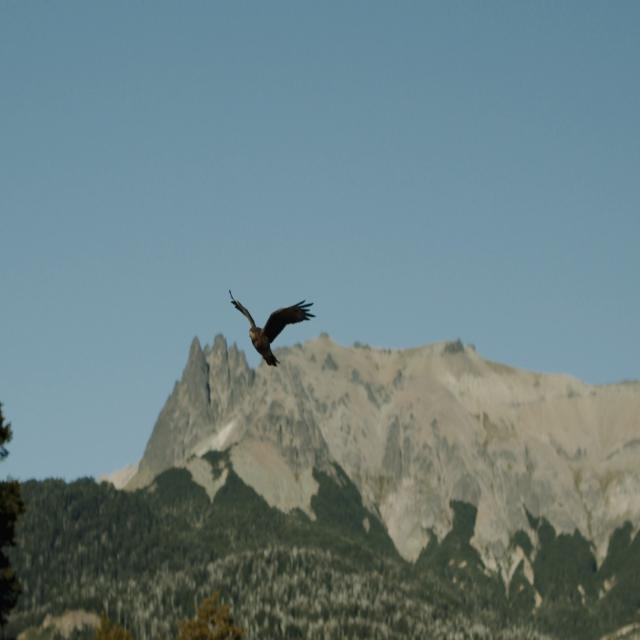bird: (222, 283, 313, 375)
